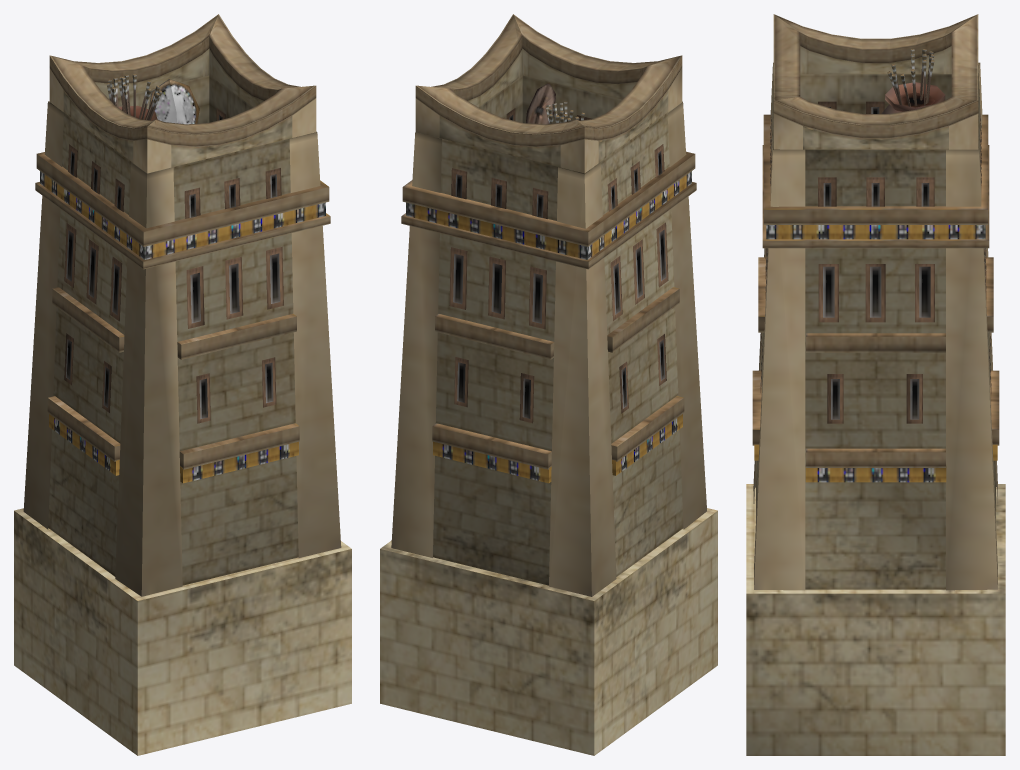
File: ptol_tower.glb
3 views of the same model, side by side, from view 1: azimuth 30°, elevation 25°; view 2: azimuth 150°, elevation 25°; view 3: azimuth 270°, elevation 25° (orthographic). The views are drawn at different scales.
Visible parts, largest first — view 1: ptol_tower_part0; view 2: ptol_tower_part0; view 3: ptol_tower_part0.
Boxes of the visible parts, x1,y1,x2,y2 form: ptol_tower_part0: (14,14,351,755); ptol_tower_part0: (380,14,717,755); ptol_tower_part0: (746,14,1005,755).
Bounding box in the file's own units: 2.2 × 6.03 × 2.2.
2 materials, 2 textured.
